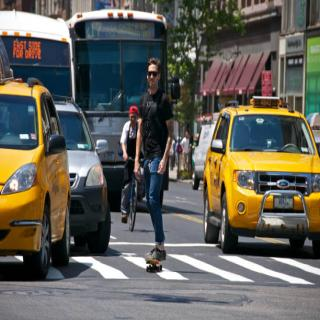Normal_vehicle: (202, 97, 320, 258), (2, 79, 71, 271), (53, 99, 112, 247), (195, 120, 219, 176)
